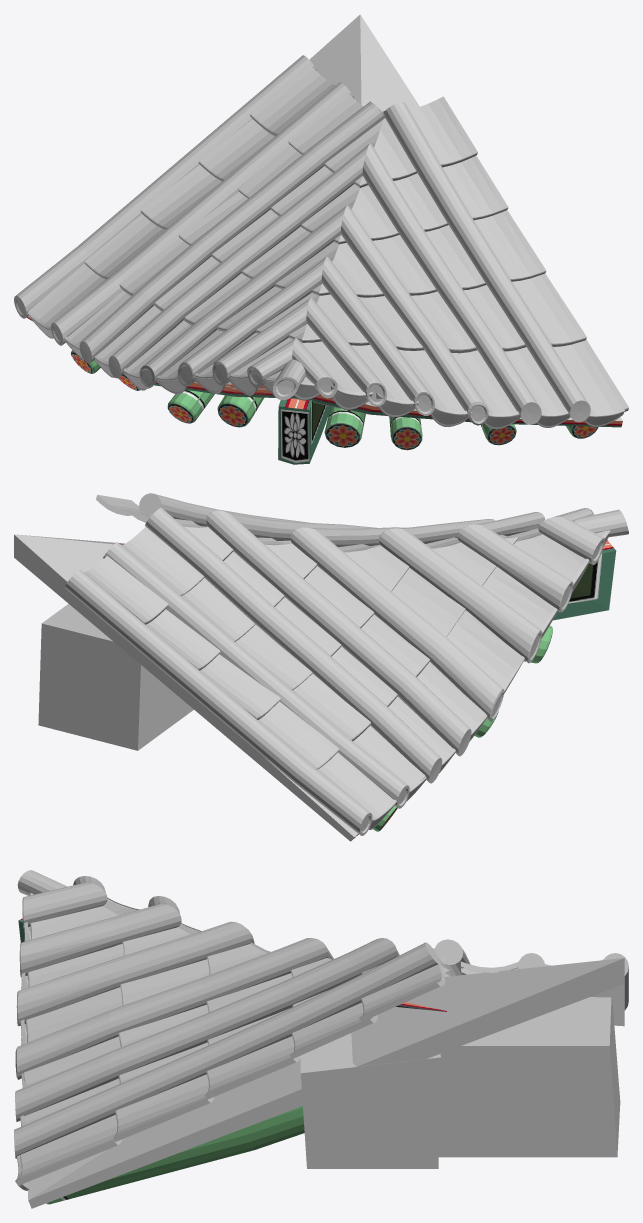
File: SM_R_RoofCorner_14.fbx
The picture shows the model from 3 angles, top to bottom: view 1: azimuth 30°, elevation 25°; view 2: azimuth 150°, elevation 25°; view 3: azimuth 270°, elevation 25°; orthographic projection. The views are drawn at different scales.
Visible parts, largest first — view 1: SM_R_RoofCorner_14_LOD0; view 2: SM_R_RoofCorner_14_LOD0; view 3: SM_R_RoofCorner_14_LOD0.
Boxes of the visible parts, x1,y1,x2,y2 form: SM_R_RoofCorner_14_LOD0: (14,14,628,464); SM_R_RoofCorner_14_LOD0: (14,493,628,841); SM_R_RoofCorner_14_LOD0: (14,870,628,1208).
Size of the model in its own units: 253 by 340 by 172.
